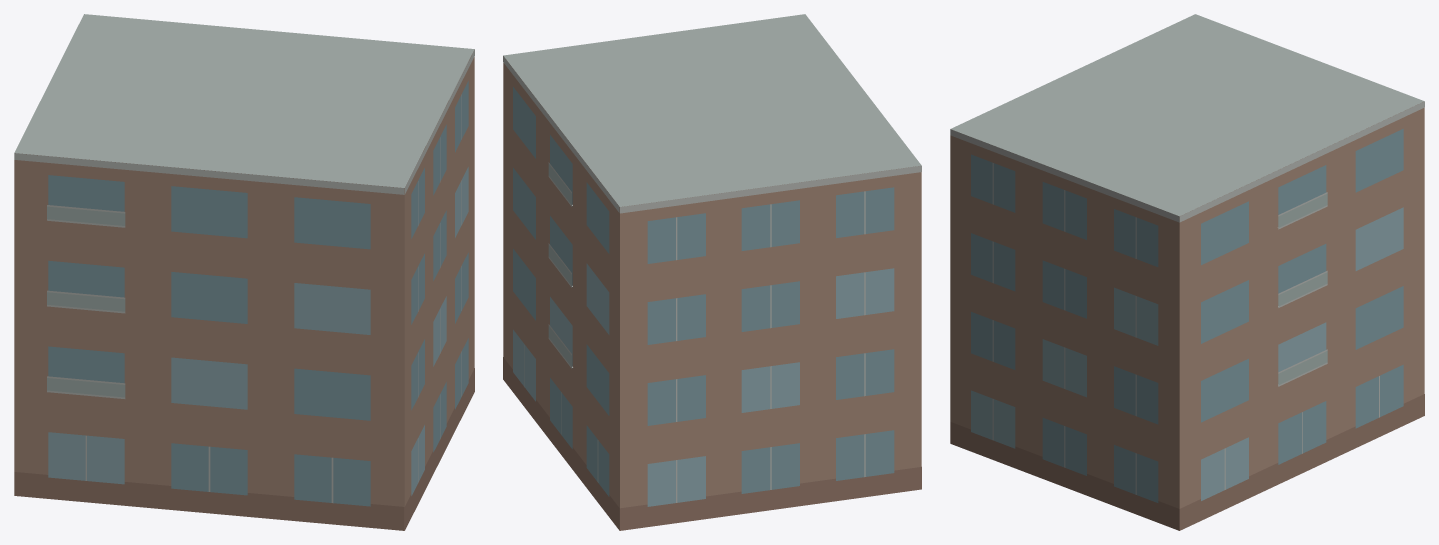
File: residential-9da66fed-7594-4745-b74b-50588475c5cf.glb
3 renders of one model, left to right at view 1: azimuth 30°, elevation 25°; view 2: azimuth 150°, elevation 25°; view 3: azimuth 270°, elevation 25°, orthographic. The views are drawn at different scales.
Parts seen in each view (by area): view 1: residential-9da66fed-7594-4745-b74b-50588475c5cf.tmp; view 2: residential-9da66fed-7594-4745-b74b-50588475c5cf.tmp; view 3: residential-9da66fed-7594-4745-b74b-50588475c5cf.tmp.
Part boxes in pixels (x1,y1,x2,y2): residential-9da66fed-7594-4745-b74b-50588475c5cf.tmp: (14, 14, 474, 530); residential-9da66fed-7594-4745-b74b-50588475c5cf.tmp: (503, 14, 921, 530); residential-9da66fed-7594-4745-b74b-50588475c5cf.tmp: (950, 14, 1424, 530).
Size of the model in its own units: 16.84 by 12.2 by 16.68.
